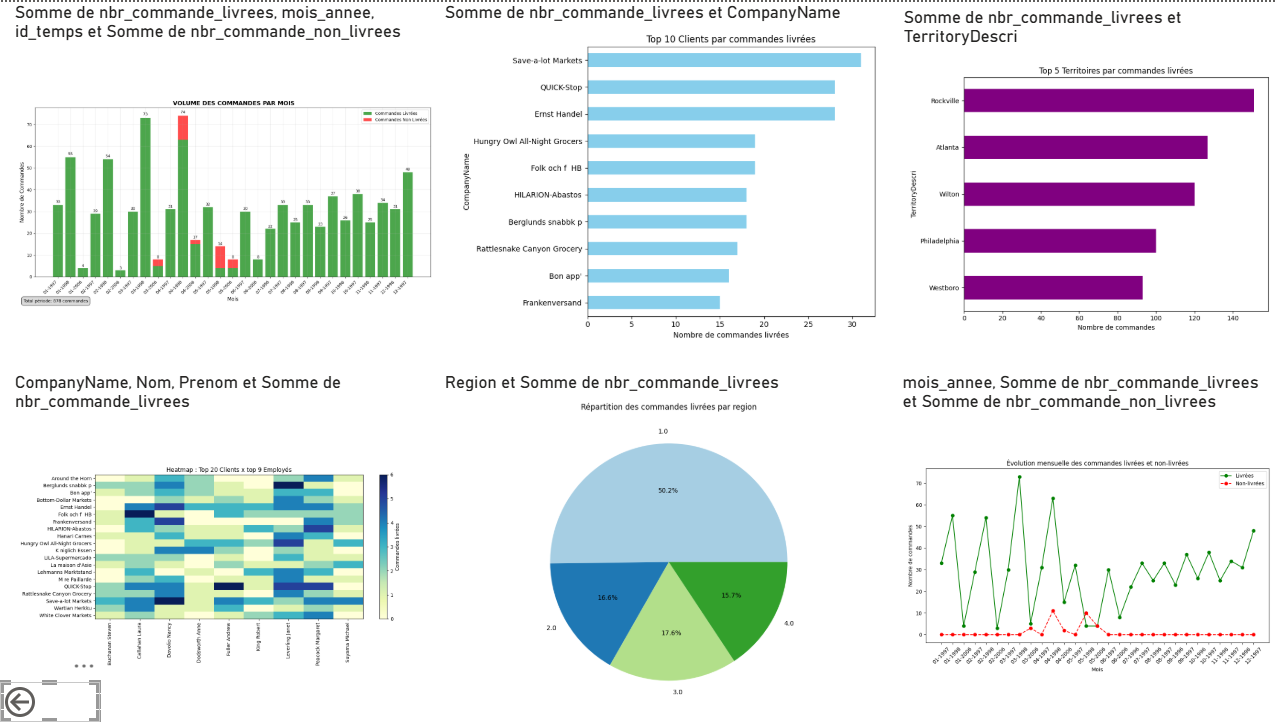

This screenshot's page, from the dashboard's own definition file:
{"tool":"powerbi","page":{"name":"Page 1","canvas":[1280,720],"ordinal":0},"visuals":[{"type":"pythonVisual","fields":{"Values":["Sum(TF_Commande_Final.nbr_commande_livrees)","Dim_Temps.mois_annee","TF_Commande_Final.id_temps","Sum(TF_Commande_Final.nbr_commande_non_livrees)"]},"box":[10,0,430,360],"z":0},{"type":"pythonVisual","fields":{"Values":["Sum(TF_Commande_Final.nbr_commande_livrees)","Dim_Client.CompanyName"]},"box":[440,0,458.3,350],"z":1000},{"type":"pythonVisual","fields":{"Values":["Sum(TF_Commande_Final.nbr_commande_livrees)","Dim_Employee.TerritoryDescri"]},"box":[898.3,5,381.7,345],"z":2000},{"type":"pythonVisual","fields":{"Values":["Dim_Client.CompanyName","Dim_Employee.Nom","Dim_Employee.Prenom","Sum(TF_Commande_Final.nbr_commande_livrees)"]},"box":[10,370,430,350],"z":3000},{"type":"actionButton","box":[0,0,100,40],"z":4000},{"type":"pythonVisual","fields":{"Values":["Dim_Employee.Region","Sum(TF_Commande_Final.nbr_commande_livrees)"]},"box":[440,370,458,350],"z":5000},{"type":"pythonVisual","fields":{"Values":["Dim_Temps.mois_annee","Sum(TF_Commande_Final.nbr_commande_livrees)","Sum(TF_Commande_Final.nbr_commande_non_livrees)"]},"box":[898,370,382,350],"z":6000}]}

Visuals, with their boxes on the page's 1280x720 design canvas (x1, y1, x2, y2). These are canvas units, not pixel positions in the 1276x722 screenshot, which may show the page scaled, cropped or inside an application window:
pythonVisual - Sum(TF_Commande_Final.nbr_commande_livrees) x Dim_Temps.mois_annee: (10,0,440,360)
pythonVisual - Sum(TF_Commande_Final.nbr_commande_livrees) x Dim_Client.CompanyName: (440,0,898,350)
pythonVisual - Sum(TF_Commande_Final.nbr_commande_livrees) x Dim_Employee.TerritoryDescri: (898,5,1280,350)
pythonVisual - Dim_Client.CompanyName x Dim_Employee.Nom: (10,370,440,720)
actionButton: (0,0,100,40)
pythonVisual - Dim_Employee.Region x Sum(TF_Commande_Final.nbr_commande_livrees): (440,370,898,720)
pythonVisual - Dim_Temps.mois_annee x Sum(TF_Commande_Final.nbr_commande_livrees): (898,370,1280,720)
